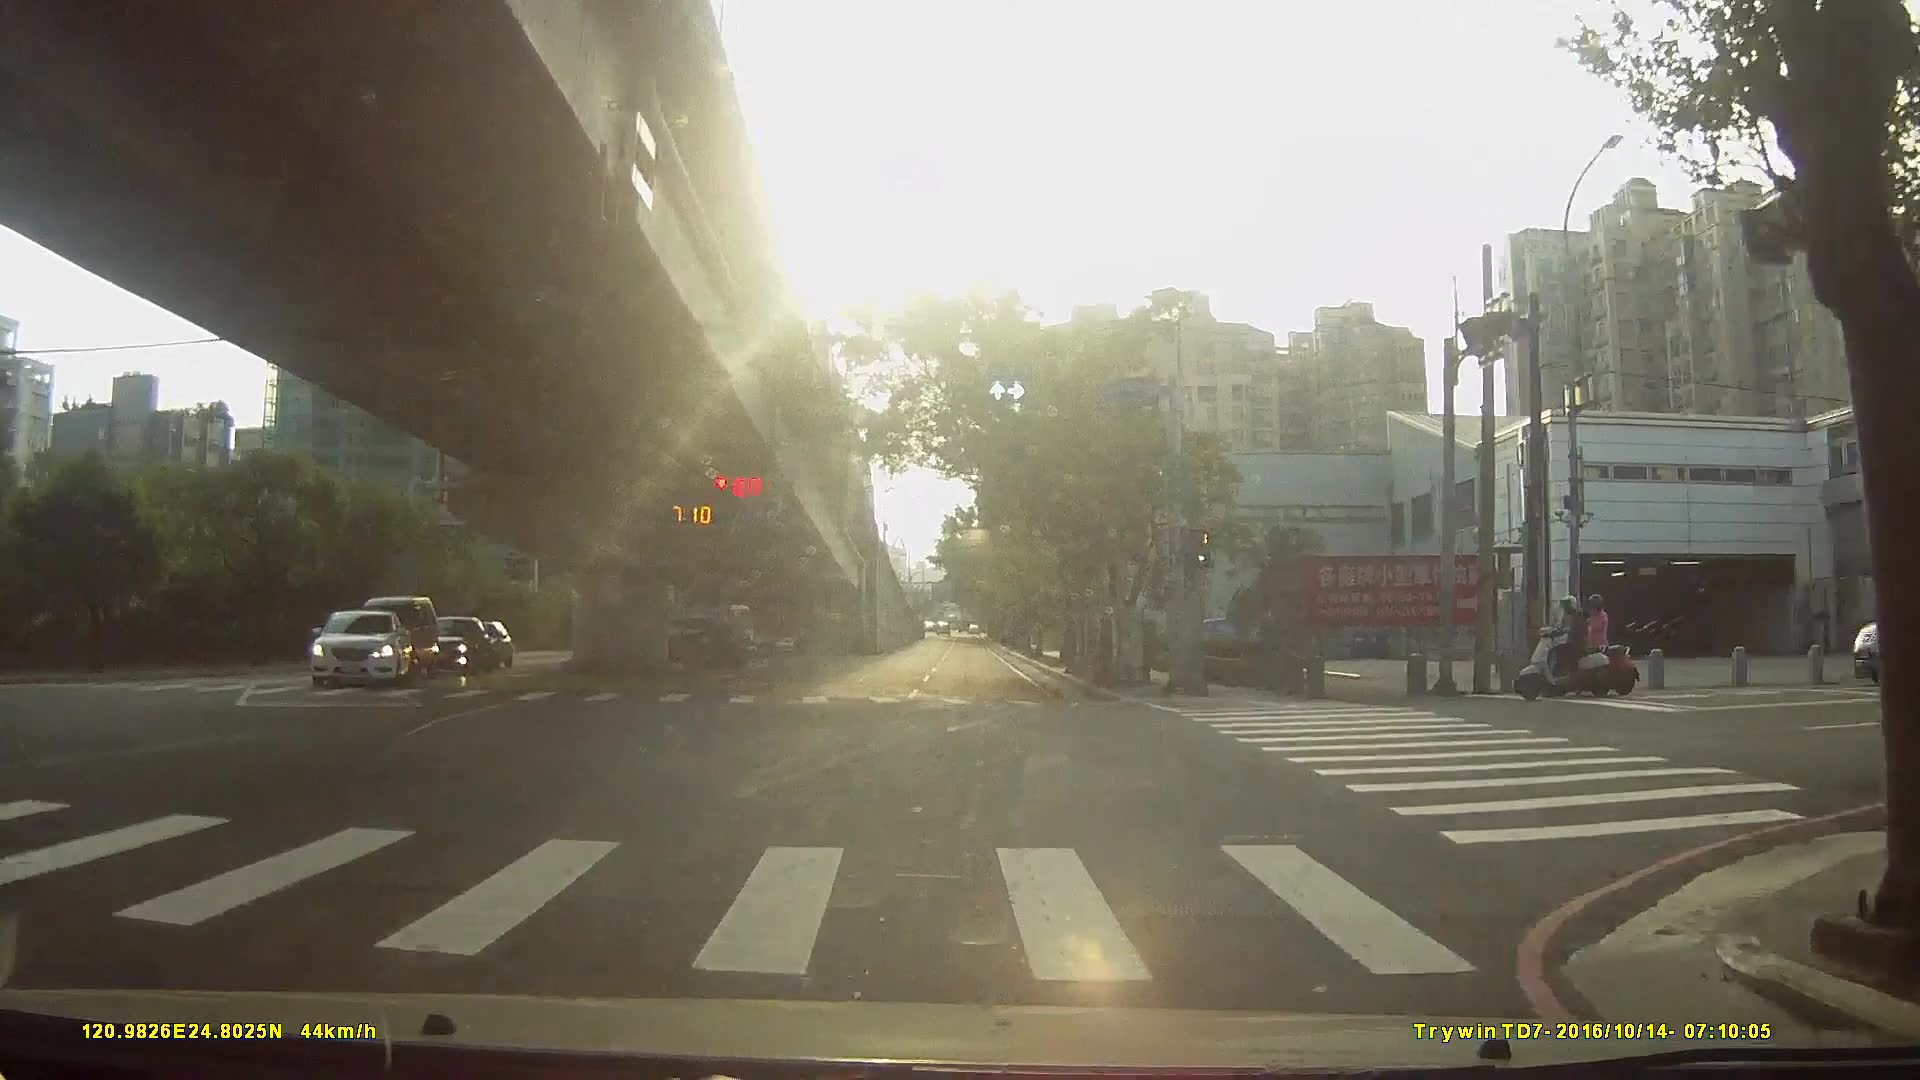rider: (1512, 595, 1611, 701)
vehicle: (299, 611, 406, 693), (352, 595, 433, 683), (636, 616, 752, 676), (410, 614, 491, 677), (1858, 614, 1920, 688)
